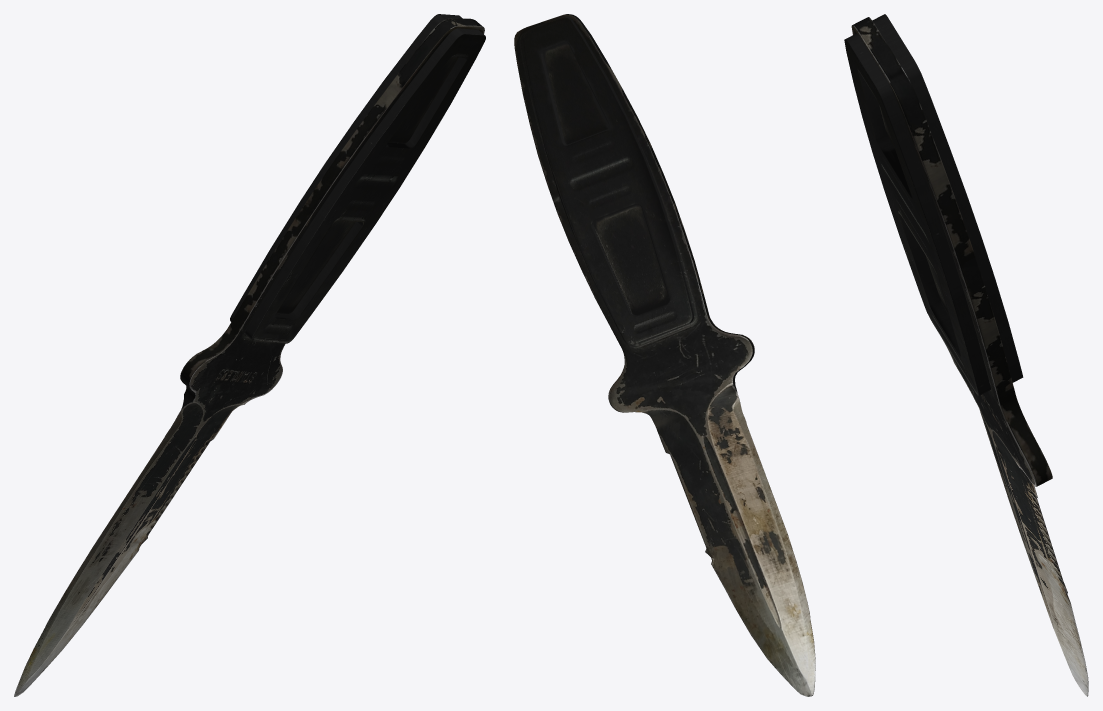
The model's file is throwing_knife_black.glb.
3 views of the same model, side by side, from view 1: azimuth 30°, elevation 25°; view 2: azimuth 150°, elevation 25°; view 3: azimuth 270°, elevation 25° (orthographic). The views are drawn at different scales.
Parts seen in each view (by area): view 1: knife, handle side 1, handle side 2; view 2: knife, handle side 2; view 3: knife, handle side 1, handle side 2.
Part boxes in pixels (x1,y1,x2,y2): knife: (14, 18, 484, 696); handle side 1: (245, 28, 485, 343); handle side 2: (230, 14, 462, 321); knife: (514, 14, 815, 696); handle side 2: (523, 16, 693, 344); knife: (851, 17, 1088, 696); handle side 1: (844, 33, 990, 395); handle side 2: (872, 14, 1023, 382).
Bounding box in the file's own units: 11.18 × 17.02 × 4.09.
3 materials, 3 textured.
